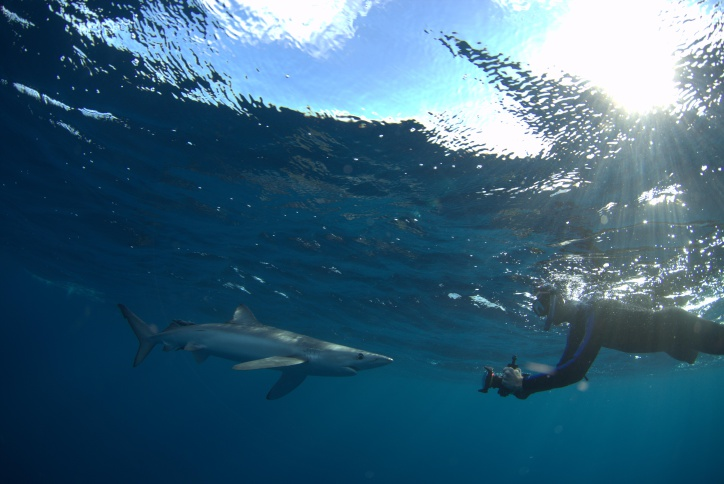Azul: (24, 220, 331, 365), (102, 289, 415, 408)
